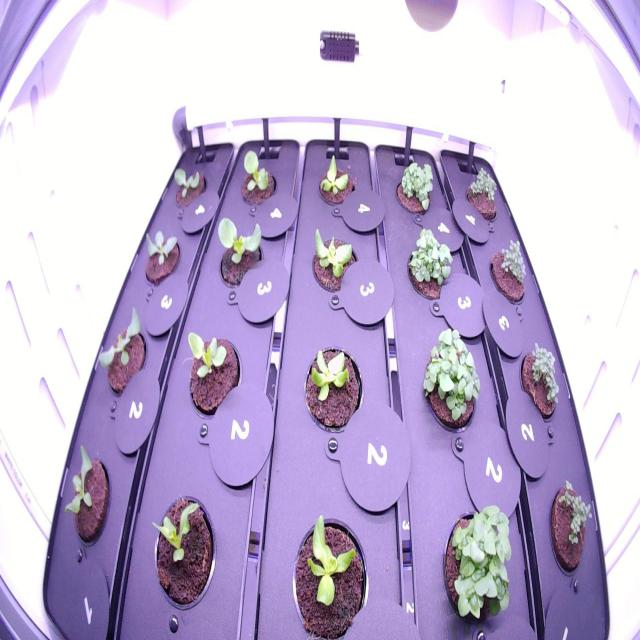germination: (548, 472, 598, 587), (516, 337, 564, 428), (487, 233, 530, 312), (462, 161, 501, 226)
young: (283, 504, 375, 638), (145, 483, 218, 620), (296, 335, 369, 436), (176, 323, 244, 422), (58, 437, 114, 552), (93, 297, 150, 408), (208, 208, 267, 294), (305, 220, 360, 301), (229, 144, 280, 216), (137, 224, 184, 290), (312, 149, 360, 212), (168, 156, 210, 217)
